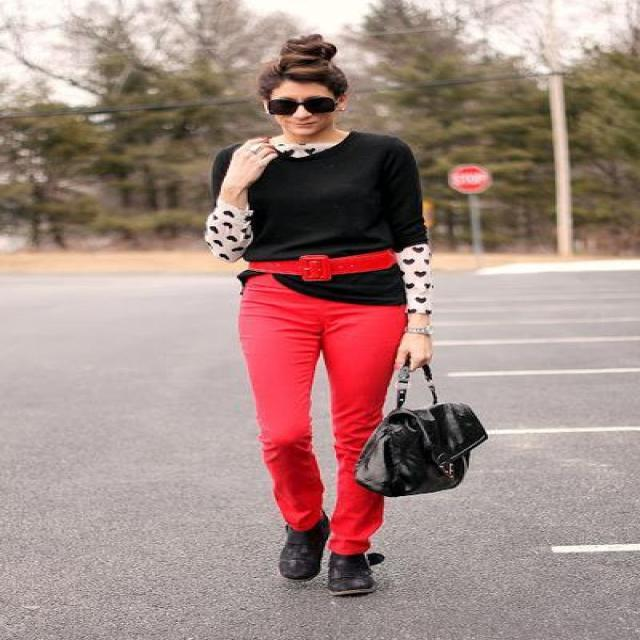bag: (356, 389, 486, 496)
jacket: (200, 131, 448, 312)
pants: (238, 276, 414, 554)
shoe: (278, 512, 384, 595)
sunglass: (260, 90, 346, 115)
